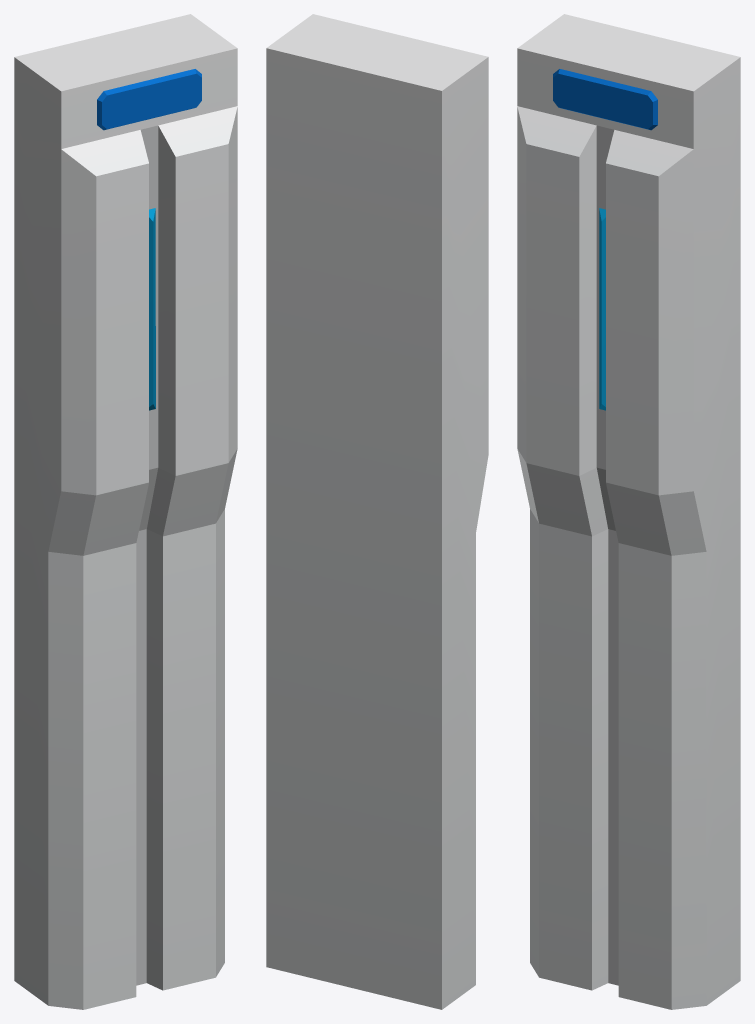
File: Wall_type_A_023.fbx
3 renders of one model, left to right at view 1: azimuth 30°, elevation 25°; view 2: azimuth 150°, elevation 25°; view 3: azimuth 330°, elevation 25°, orthographic.
Parts seen in each view (by area): view 1: Wall_type_A_023; view 2: Wall_type_A_023; view 3: Wall_type_A_023.
Boxes of the visible parts, box(x1,y1,x2,y2) form: Wall_type_A_023: box(14, 14, 237, 1009); Wall_type_A_023: box(266, 14, 488, 1009); Wall_type_A_023: box(517, 14, 740, 1009).
Size of the model in its own units: 80 by 46.98 by 400.
